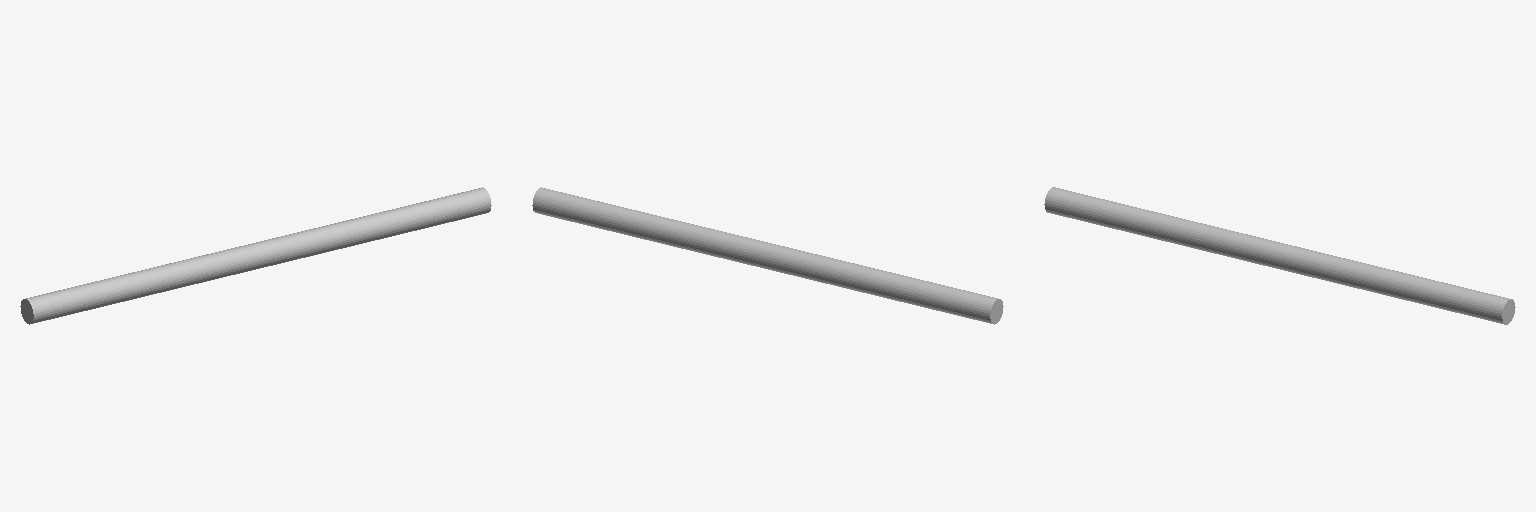
URDF robot description (rod):
<?xml version="1.0" encoding="utf-8"?>
<robot name="rod">
  <link name="rod_Link">
    <inertial>
      <origin xyz="0 0 0" rpy="0 0 0"/>
      <mass value="0.8"/>
      <inertia ixx="0.001" iyy="0.001" izz="0.0005" ixy="0" ixz="0" iyz="0"/>
    </inertial>
    <visual>
      <origin xyz="0 0 0" rpy="0 -1.57 0"/>
      <geometry><cylinder length="0.8" radius="0.020"/></geometry>
      <material name="gray"><color rgba="0.8 0.8 0.8 1"/></material>
    </visual>
    <collision>
      <origin xyz="0 0 0" rpy="0 -1.57 0"/>
      <geometry><cylinder length="0.8" radius="0.020"/></geometry>
    </collision>
  </link>
</robot>

--- What the picture shows (computed from the rendered views, not written in the file) ---
Views: 3 orthographic renders of the robot side by side, from view 1: azimuth 30°, elevation 25°; view 2: azimuth 150°, elevation 25°; view 3: azimuth 330°, elevation 25°.
Robot: rod — 1 links, 0 joints (none); root link rod_Link; default pose: every joint at zero.
Visible links, largest first — view 1: rod_Link; view 2: rod_Link; view 3: rod_Link.
Link boxes in pixels (left/top/right/bottom): rod_Link: left=20, top=187, right=491, bottom=324; rod_Link: left=532, top=187, right=1003, bottom=324; rod_Link: left=1044, top=187, right=1515, bottom=324.
Bounding box of the posed robot: 0.8 × 0.04 × 0.0406 m (x, y, z).
Geometry: primitives only (box / cylinder / sphere), no mesh files.
